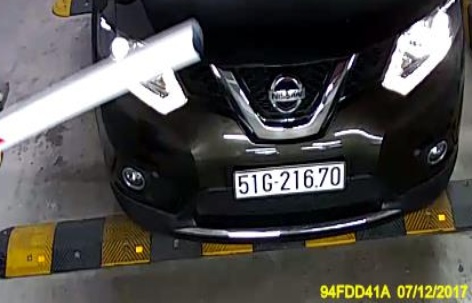plate: (234, 162, 343, 195)
